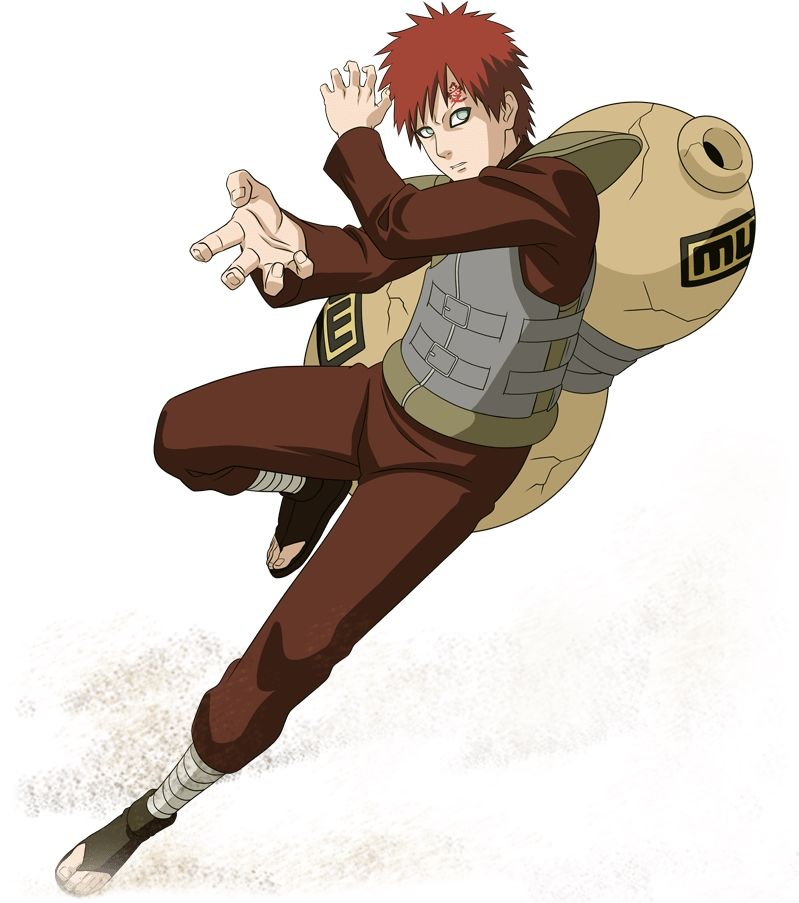gaara: (389, 61, 523, 184)
